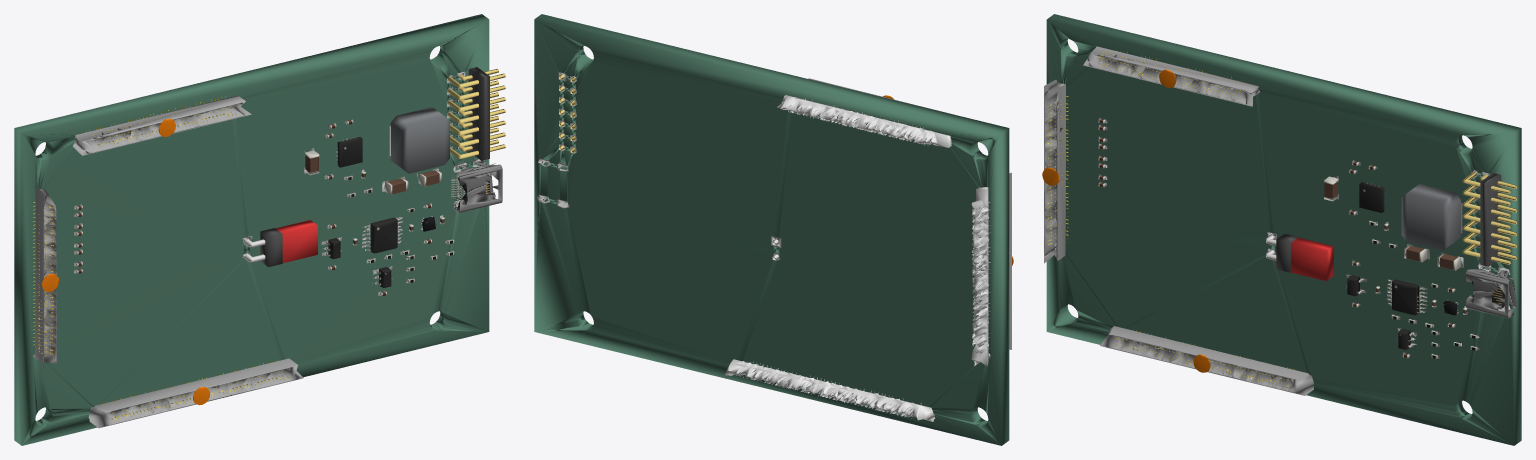
File: Interposer_V4_Display.glb
The picture shows the model from 3 angles, left to right: view 1: azimuth 30°, elevation 25°; view 2: azimuth 150°, elevation 25°; view 3: azimuth 330°, elevation 25°; orthographic projection.
Parts seen in each view (by area): view 1: =>[0:1:1:70] / display decode, ERF6-40-03.5-L-DV-A-K-TR_H / display decode (×2), ERF6-50-03.5-L-DV-A-K-TR_H / display decode, =>[0:1:1:14] / display decode, =>[0:1:1:37] / display decode, =>[0:1:1:45] / display decode, =>[0:1:1:33] / display decode, =>[0:1:1:69] / display decode, =>[0:1:1:41] / display decode, =>[0:1:1:28] / display decode, =>[0:1:1:43] / display decode; view 2: =>[0:1:1:70] / display decode, 3 / display decode (×2), 10 / display decode, 4 / display decode (×2), =>[0:1:1:69] / display decode, ERF6-40-03.5-L-DV-A-K-TR_H / display decode, 9 / display decode; view 3: =>[0:1:1:70] / display decode, ERF6-40-03.5-L-DV-A-K-TR_H / display decode (×2), ERF6-50-03.5-L-DV-A-K-TR_H / display decode, =>[0:1:1:14] / display decode, =>[0:1:1:37] / display decode, =>[0:1:1:45] / display decode, =>[0:1:1:33] / display decode, =>[0:1:1:69] / display decode, =>[0:1:1:41] / display decode, =>[0:1:1:43] / display decode, =>[0:1:1:28] / display decode.
Boxes of the visible parts, x1=… form: =>[0:1:1:70] / display decode: x1=14, y1=14, x2=489, y2=445; ERF6-40-03.5-L-DV-A-K-TR_H / display decode (×2): x1=33, y1=95, x2=251, y2=372; ERF6-50-03.5-L-DV-A-K-TR_H / display decode: x1=88, y1=358, x2=303, y2=428; =>[0:1:1:14] / display decode: x1=390, y1=107, x2=449, y2=173; =>[0:1:1:37] / display decode: x1=451, y1=161, x2=502, y2=213; =>[0:1:1:45] / display decode: x1=468, y1=67, x2=489, y2=160; =>[0:1:1:33] / display decode: x1=275, y1=220, x2=317, y2=263; =>[0:1:1:69] / display decode: x1=74, y1=71, x2=485, y2=295; =>[0:1:1:41] / display decode: x1=365, y1=217, x2=400, y2=253; =>[0:1:1:28] / display decode: x1=260, y1=228, x2=282, y2=267; =>[0:1:1:43] / display decode: x1=337, y1=137, x2=362, y2=167; =>[0:1:1:70] / display decode: x1=534, y1=14, x2=1009, y2=445; 3 / display decode (×2): x1=777, y1=95, x2=990, y2=365; 10 / display decode: x1=725, y1=359, x2=935, y2=421; 4 / display decode (×2): x1=788, y1=98, x2=990, y2=355; =>[0:1:1:69] / display decode: x1=537, y1=71, x2=781, y2=260; ERF6-40-03.5-L-DV-A-K-TR_H / display decode: x1=1009, y1=172, x2=1011, y2=349; 9 / display decode: x1=736, y1=361, x2=921, y2=418; =>[0:1:1:70] / display decode: x1=1046, y1=14, x2=1521, y2=445; ERF6-40-03.5-L-DV-A-K-TR_H / display decode (×2): x1=1044, y1=46, x2=1259, y2=263; ERF6-50-03.5-L-DV-A-K-TR_H / display decode: x1=1100, y1=326, x2=1313, y2=395; =>[0:1:1:14] / display decode: x1=1401, y1=184, x2=1460, y2=250; =>[0:1:1:37] / display decode: x1=1465, y1=266, x2=1516, y2=318; =>[0:1:1:45] / display decode: x1=1480, y1=173, x2=1501, y2=266; =>[0:1:1:33] / display decode: x1=1291, y1=237, x2=1333, y2=280; =>[0:1:1:69] / display decode: x1=1099, y1=117, x2=1510, y2=358; =>[0:1:1:41] / display decode: x1=1388, y1=279, x2=1424, y2=315; =>[0:1:1:43] / display decode: x1=1359, y1=182, x2=1384, y2=212; =>[0:1:1:28] / display decode: x1=1276, y1=233, x2=1298, y2=272.
Bounding box in the file's own units: 83.97 × 53 × 10.44.
